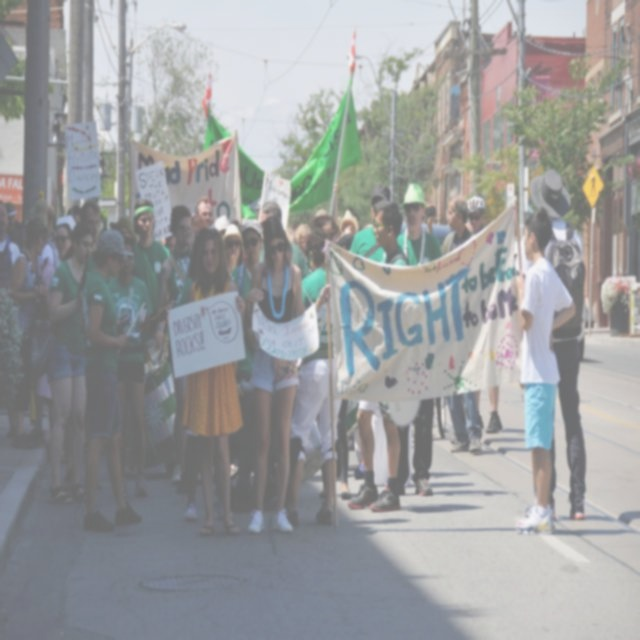pessoa: (243, 214, 335, 534), (165, 226, 246, 534), (520, 165, 588, 522), (346, 198, 414, 514), (514, 202, 577, 538), (81, 227, 144, 531), (283, 227, 344, 527), (179, 227, 234, 522), (43, 220, 96, 508), (394, 183, 442, 499), (102, 234, 154, 498), (440, 193, 484, 454), (158, 203, 195, 484), (6, 215, 49, 450), (464, 194, 504, 437), (132, 197, 172, 353), (229, 216, 265, 384), (348, 182, 403, 264), (256, 202, 310, 280), (284, 203, 360, 250), (27, 197, 59, 273), (336, 396, 354, 501), (78, 198, 102, 276), (191, 192, 231, 234), (220, 223, 244, 278), (48, 205, 66, 257), (6, 200, 26, 244), (108, 212, 138, 240), (4, 201, 22, 245), (157, 224, 175, 252), (66, 201, 82, 224), (66, 223, 74, 255)
